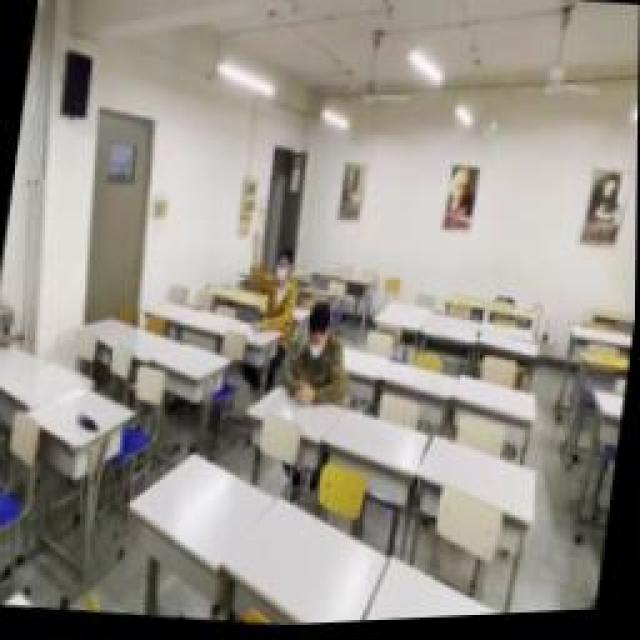phone: (283, 298, 355, 408), (240, 230, 302, 338)
